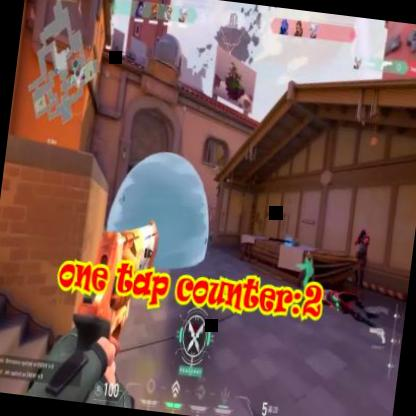enemy: (348, 224, 371, 290), (202, 208, 212, 238)
enemy_head: (360, 224, 368, 236), (207, 209, 210, 214)
